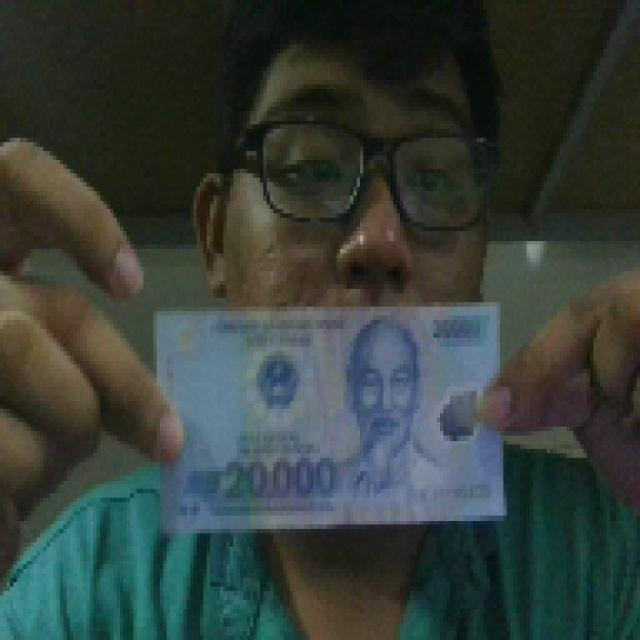20 000 VND: (147, 298, 510, 538)
